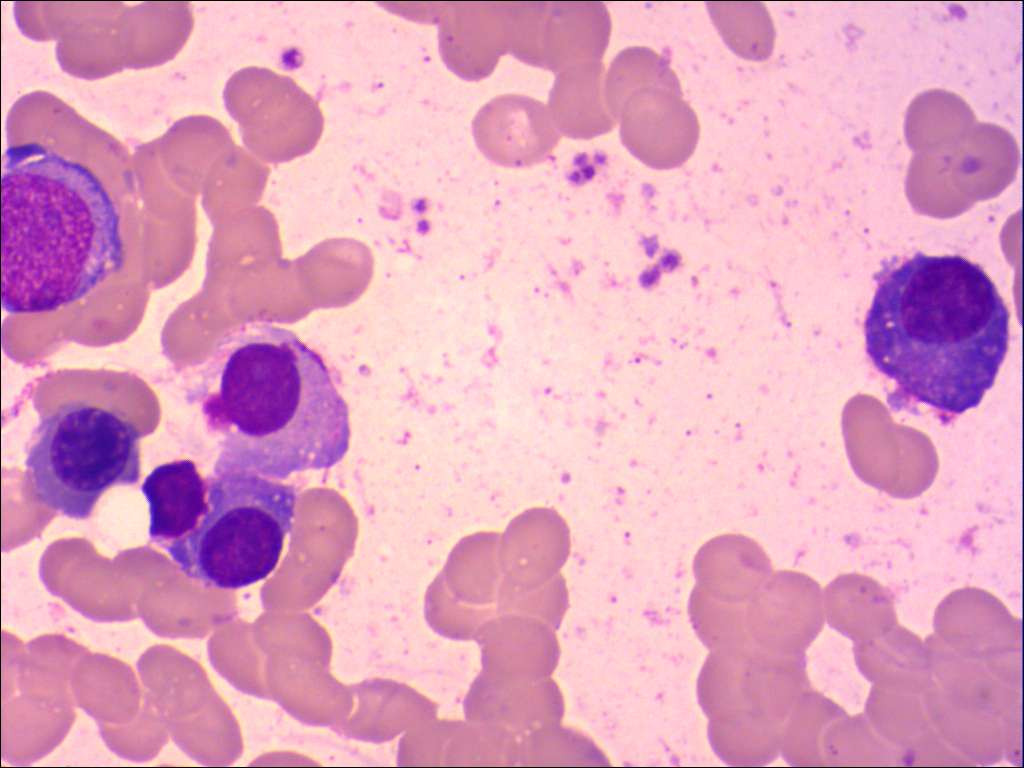24: (20, 396, 146, 524)
51: (181, 317, 354, 482), (860, 247, 1012, 417), (162, 471, 301, 593)
x: (1, 136, 131, 316), (135, 456, 212, 543)
